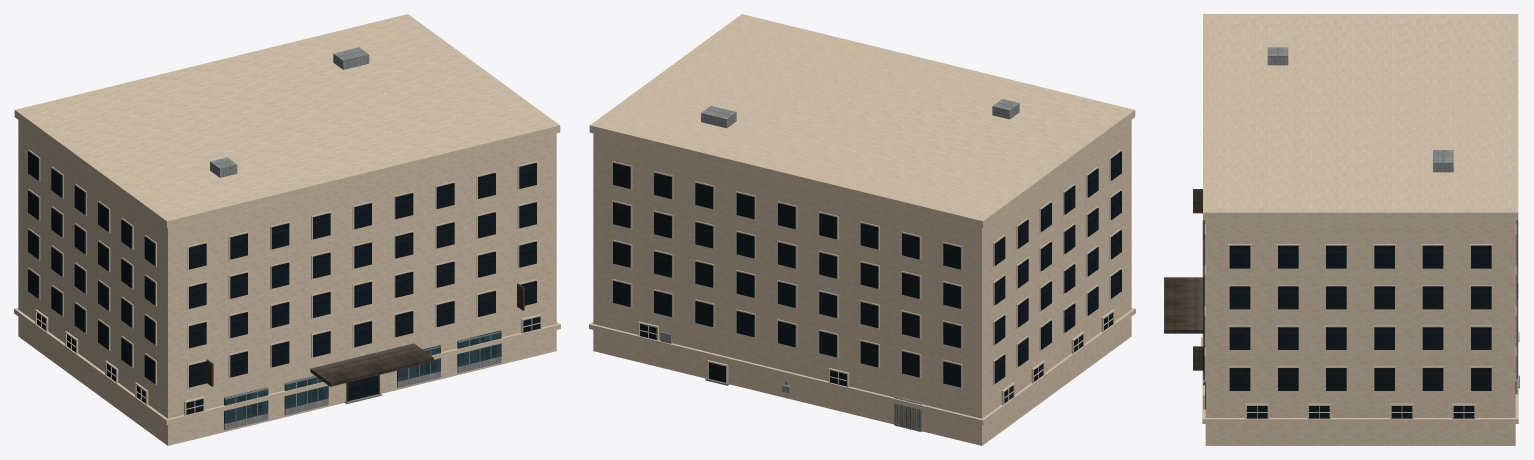
File: griswold-department-store_lod0.gltf
The picture shows the model from 3 angles, left to right: view 1: azimuth 30°, elevation 25°; view 2: azimuth 150°, elevation 25°; view 3: azimuth 270°, elevation 25°; orthographic projection. The views are drawn at different scales.
Visible parts, largest first — view 1: griswold-department-store_main, griswold-department-store_fen_07-glass-curtain-blue_3_t, griswold-department-store__cornice, griswold-department-store_fen_04-limestone_5, griswold-department-store_fen_07-glass-curtain-blue_1, griswold-department-store__trim_band, griswold-department-store__marquee, griswold-department-store_fen_14-steel-panel_0, griswold-department-store__hvac; view 2: griswold-department-store_main, griswold-department-store__cornice, griswold-department-store_fen_07-glass-curtain-blue_3_t, griswold-department-store_fen_04-limestone_5, griswold-department-store__trim_band, griswold-department-store_fen_21-corrugated-steel_7, griswold-department-store__hvac; view 3: griswold-department-store_main, griswold-department-store__cornice, griswold-department-store_fen_07-glass-curtain-blue_3_t, griswold-department-store_fen_04-limestone_5, griswold-department-store__trim_band, griswold-department-store__marquee, griswold-department-store__hvac, griswold-department-store__vent.
Boxes of the visible parts, x1,y1,x2,y2 form: griswold-department-store_main: (18,15,556,445); griswold-department-store_fen_07-glass-curtain-blue_3_t: (28,151,540,414); griswold-department-store__cornice: (14,14,560,228); griswold-department-store_fen_04-limestone_5: (28,150,541,415); griswold-department-store_fen_07-glass-curtain-blue_1: (224,330,501,423); griswold-department-store__trim_band: (14,308,560,424); griswold-department-store__marquee: (310,343,433,386); griswold-department-store_fen_14-steel-panel_0: (224,331,501,430); griswold-department-store__hvac: (333,47,369,69); griswold-department-store_main: (593,15,1131,445); griswold-department-store__cornice: (589,14,1135,228); griswold-department-store_fen_07-glass-curtain-blue_3_t: (613,151,1121,403); griswold-department-store_fen_04-limestone_5: (612,150,1121,405); griswold-department-store__trim_band: (589,308,1135,424); griswold-department-store_fen_21-corrugated-steel_7: (894,398,920,431); griswold-department-store__hvac: (701,106,736,128); griswold-department-store_main: (1205,15,1515,445); griswold-department-store__cornice: (1203,14,1518,220); griswold-department-store_fen_07-glass-curtain-blue_3_t: (1203,220,1517,418); griswold-department-store_fen_04-limestone_5: (1203,220,1518,418); griswold-department-store__trim_band: (1202,220,1518,423); griswold-department-store__marquee: (1164,277,1203,333); griswold-department-store__hvac: (1433,150,1453,172); griswold-department-store__vent: (1267,47,1288,65).
Bounding box in the file's own units: 45.6 × 26 × 34.4.
